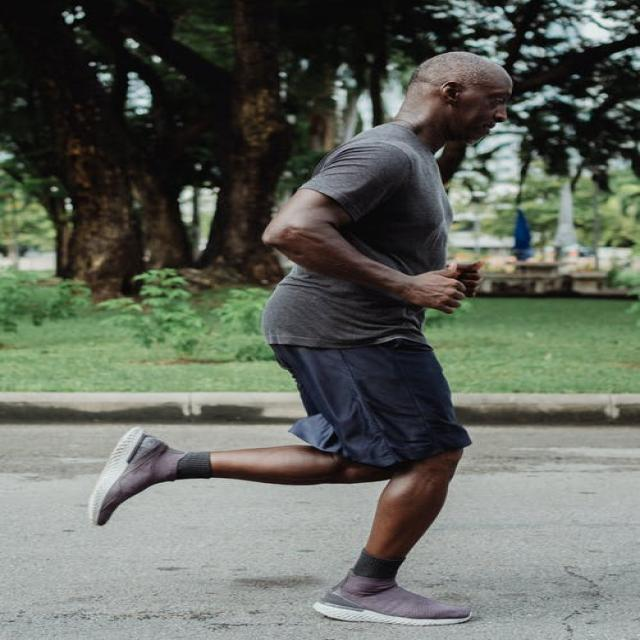running: (78, 48, 520, 630)
